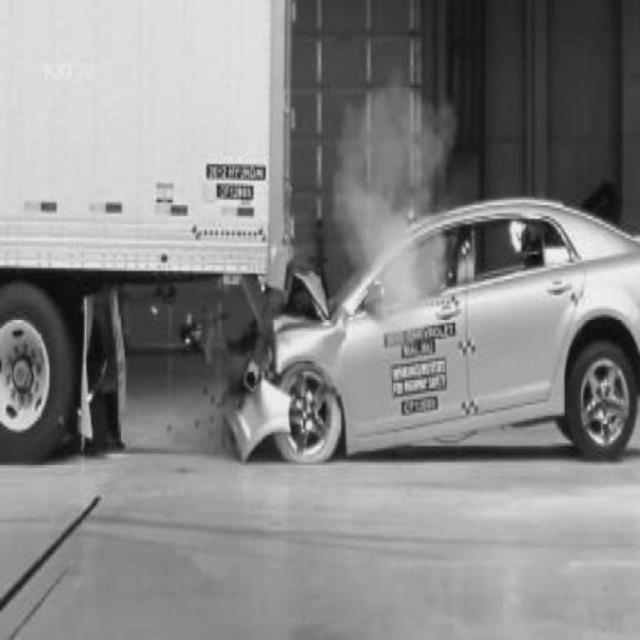accident: (5, 125, 629, 463)
